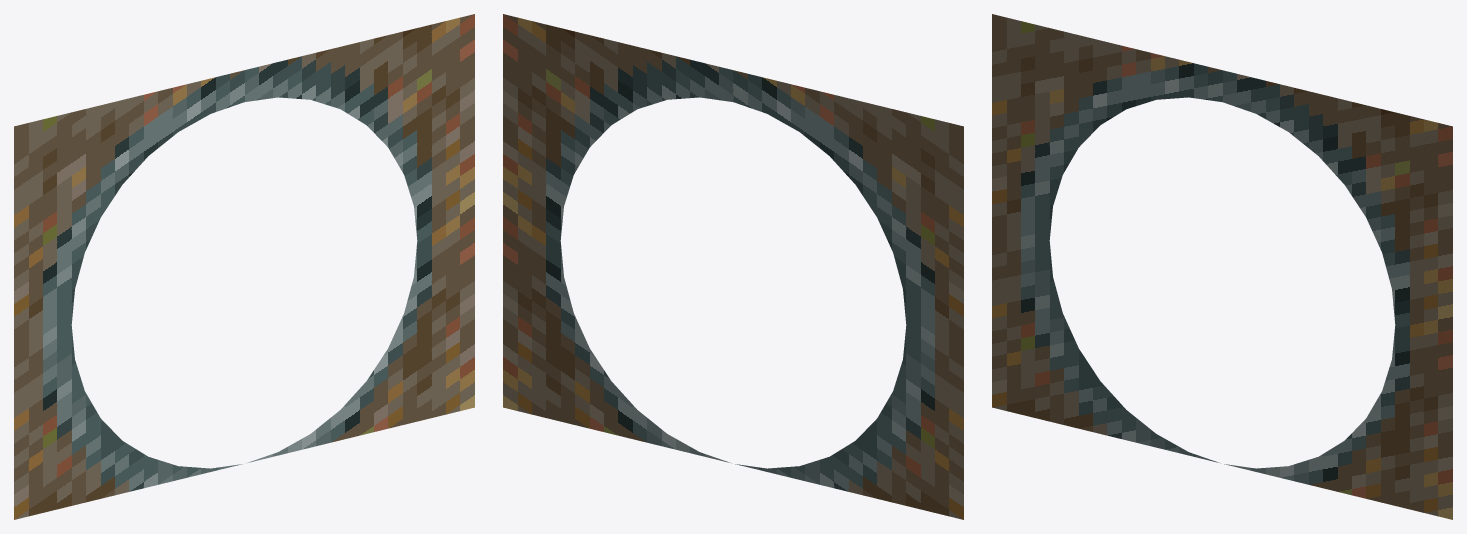
The model's file is TunnelRoundDoorH2.fbx.
3 renders of one model, left to right at view 1: azimuth 30°, elevation 25°; view 2: azimuth 150°, elevation 25°; view 3: azimuth 330°, elevation 25°, orthographic.
Visible parts, largest first — view 1: Plane; view 2: Plane; view 3: Plane.
Boxes of the visible parts, x1=… form: Plane: x1=14, y1=14, x2=474, y2=519; Plane: x1=503, y1=14, x2=963, y2=519; Plane: x1=992, y1=14, x2=1452, y2=519.
Bounding box in the file's own units: 100 × 81.64 × 0.
